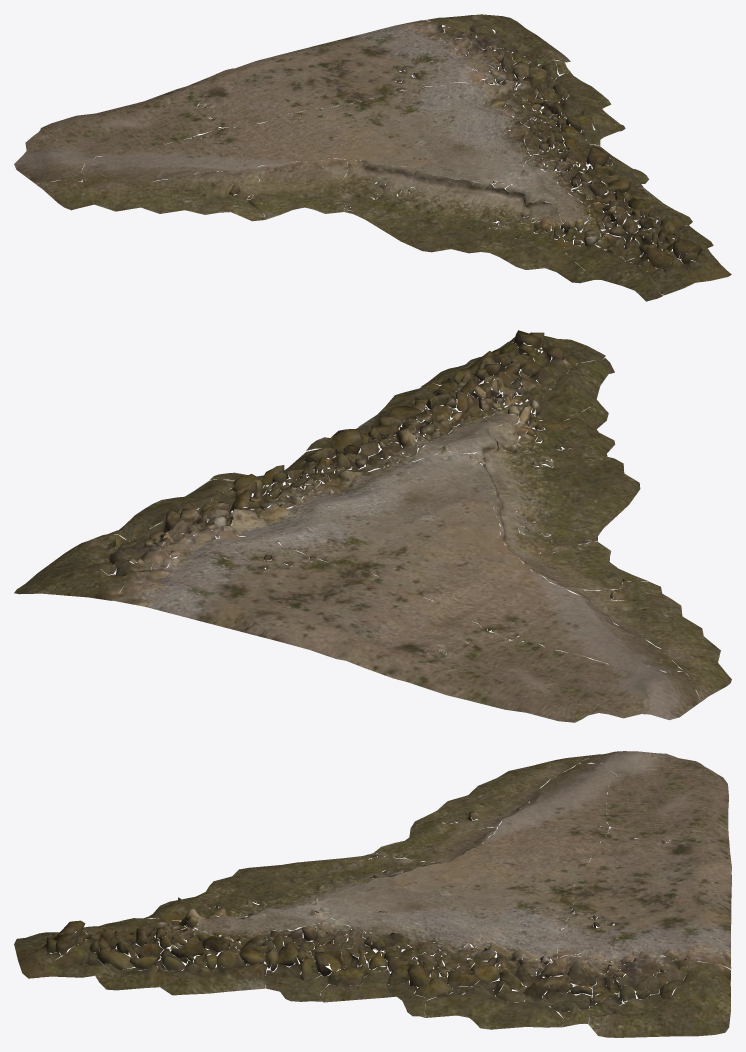
File: ph_coast_rocks_02.glb
3 views of the same model, one above another, from view 1: azimuth 30°, elevation 25°; view 2: azimuth 150°, elevation 25°; view 3: azimuth 270°, elevation 25° (orthographic). The views are drawn at different scales.
Visible parts, largest first — view 1: coast_rocks_02; view 2: coast_rocks_02; view 3: coast_rocks_02.
Part boxes in pixels (x1,y1,x2,y2): coast_rocks_02: (14,14,731,301); coast_rocks_02: (14,330,731,722); coast_rocks_02: (14,751,731,1037).
Size of the model in its own units: 45.95 by 3.08 by 49.46.
1 material, 1 textured.
